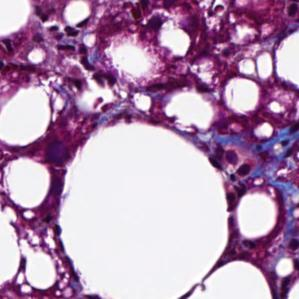inflammation: (45, 21, 84, 56)
